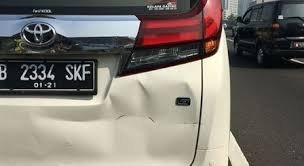plate: (1, 60, 97, 95)
